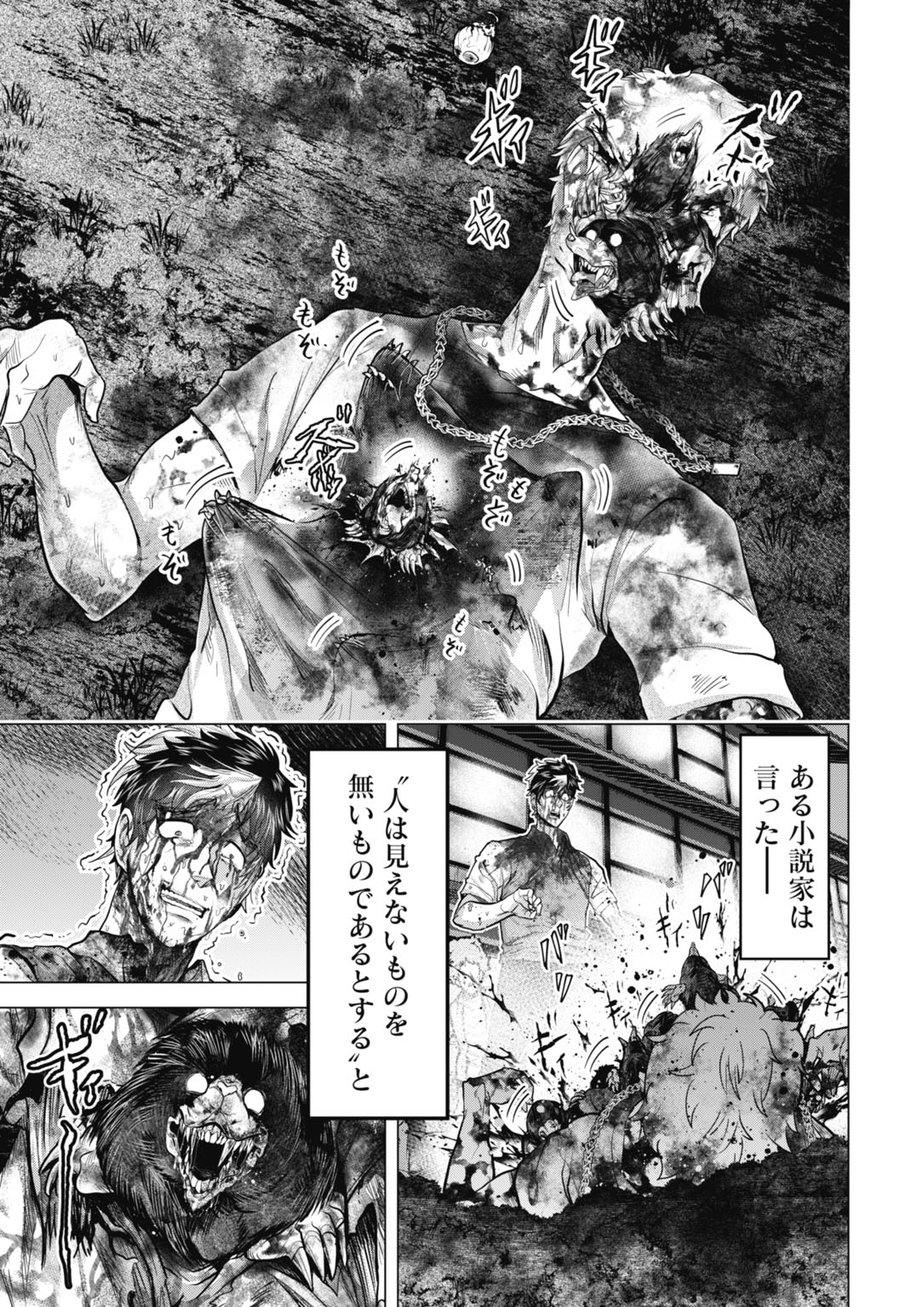bubbles: (302, 749, 455, 1123), (735, 729, 833, 965)
